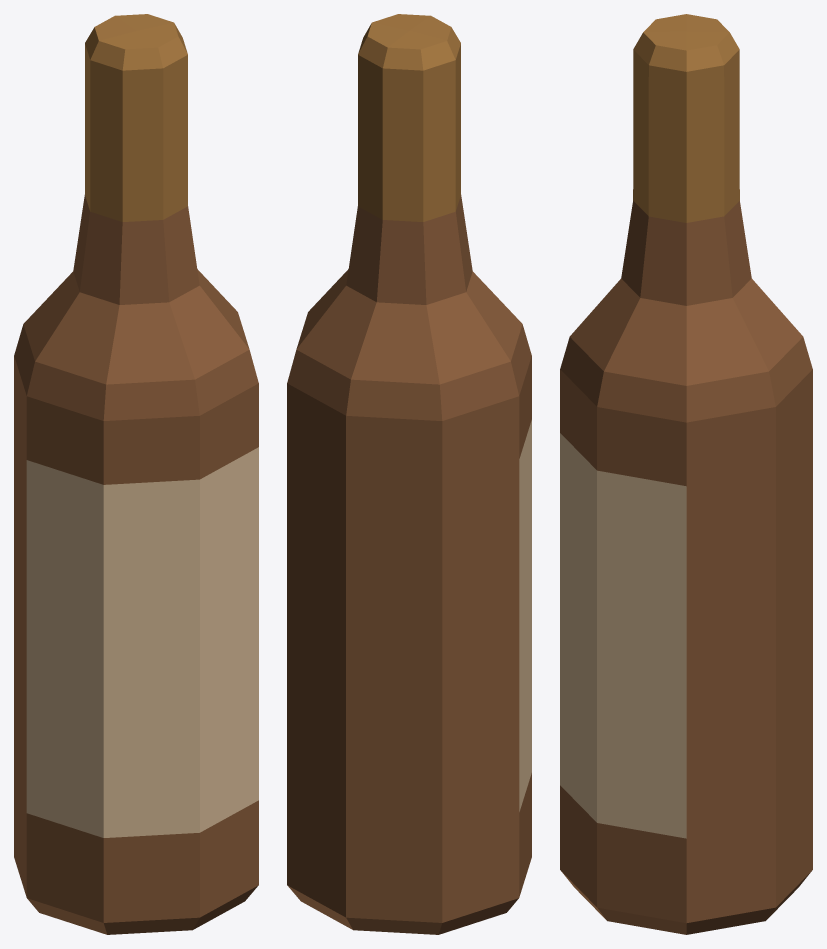
The model's file is rum-bottle.glb.
The picture shows the model from 3 angles, left to right: view 1: azimuth 30°, elevation 25°; view 2: azimuth 150°, elevation 25°; view 3: azimuth 270°, elevation 25°; orthographic projection.
Visible parts, largest first — view 1: rum-bottle; view 2: rum-bottle; view 3: rum-bottle.
Part boxes in pixels (x1,y1,x2,y2): rum-bottle: (14, 14, 258, 934); rum-bottle: (287, 14, 531, 934); rum-bottle: (560, 14, 812, 934).
Bounding box in the file's own units: 0.0847 × 0.3166 × 0.0847.
Materials: 1 (1 with a texture image).
